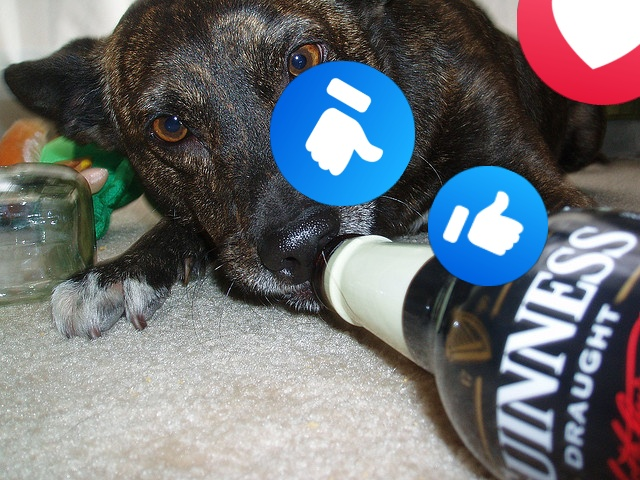like: (270, 61, 415, 206), (428, 166, 548, 286)
love: (517, 0, 640, 105)
